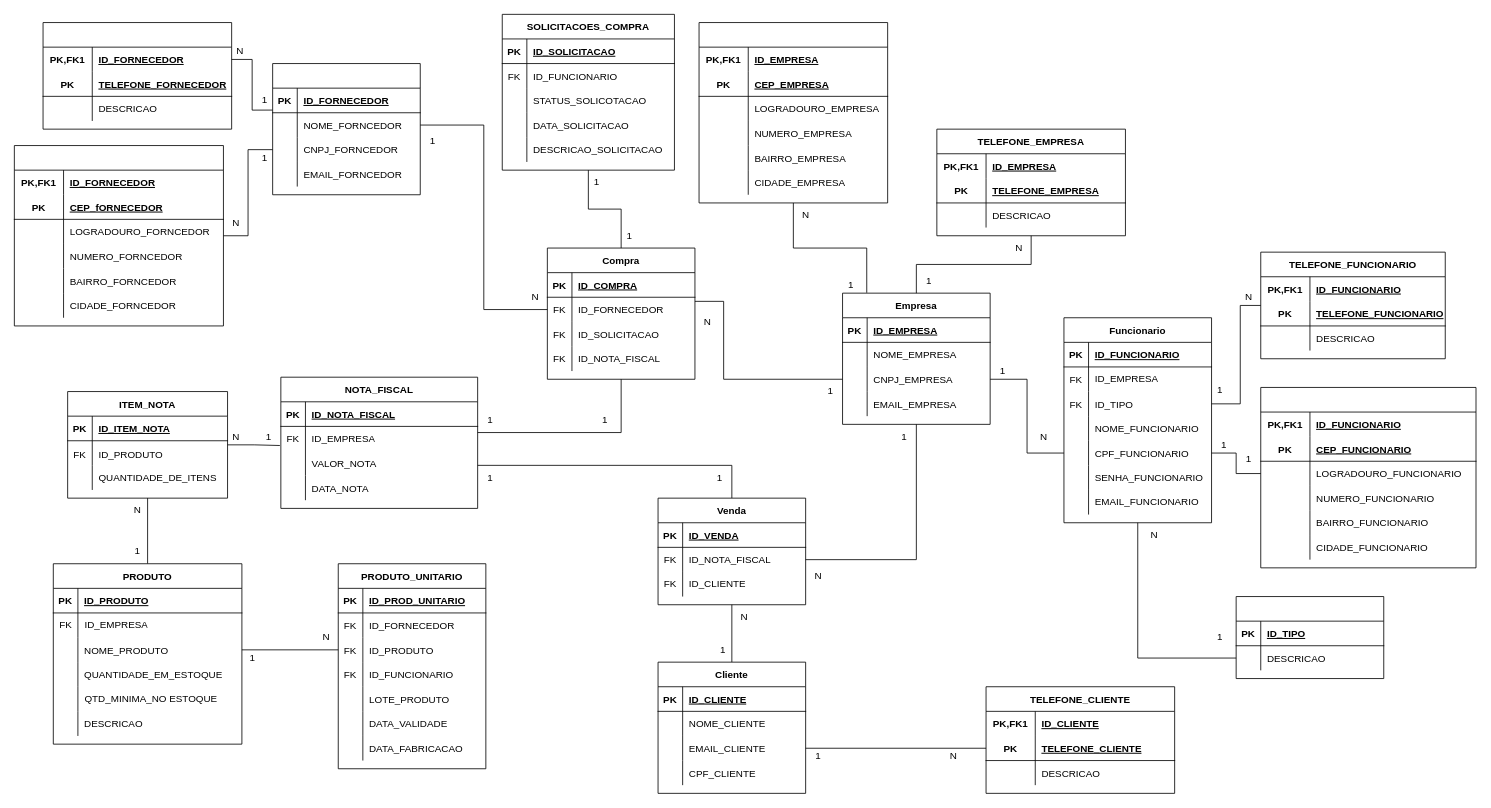
The diagram is 1491 pixels wide and 808 high, and some of its shapes have lost their labels. The box of each missing label's shape, as (x1, y1, x2, y2) in pixels:
ENDERECO_EMPRESA: (698, 22, 888, 203)
ENDERECO_FORNECEDORE: (14, 145, 223, 326)
ENDERECO_FUNCIONARIO: (1260, 387, 1476, 568)
Fornecedores: (272, 63, 420, 195)
TELEFONE_FORNECEDORE: (42, 22, 232, 129)
TIPO_FUNCIONARIO: (1235, 596, 1384, 679)
